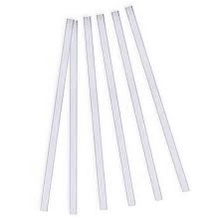drinking_straw: (119, 1, 193, 196), (36, 15, 75, 215), (79, 13, 112, 214)
